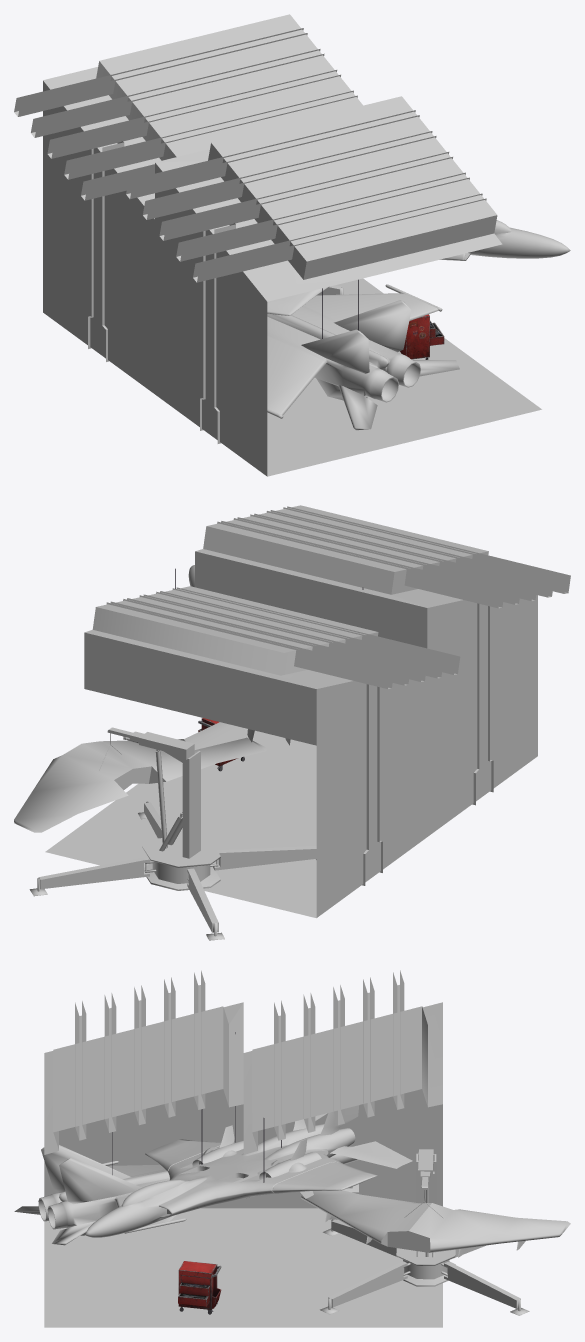
Rendered from SovietAirMusem.fbx.
3 views of the same model, one above another, from view 1: azimuth 30°, elevation 25°; view 2: azimuth 150°, elevation 25°; view 3: azimuth 270°, elevation 25° (orthographic). The views are drawn at different scales.
Visible parts, largest first — view 1: Cube_003; view 2: Cube_003; view 3: Cube_003.
Boxes of the visible parts, x1,y1,x2,y2 form: Cube_003: (14, 14, 570, 476); Cube_003: (14, 505, 570, 940); Cube_003: (14, 970, 570, 1327).
Size of the model in its own units: 136 by 86.34 by 195.
